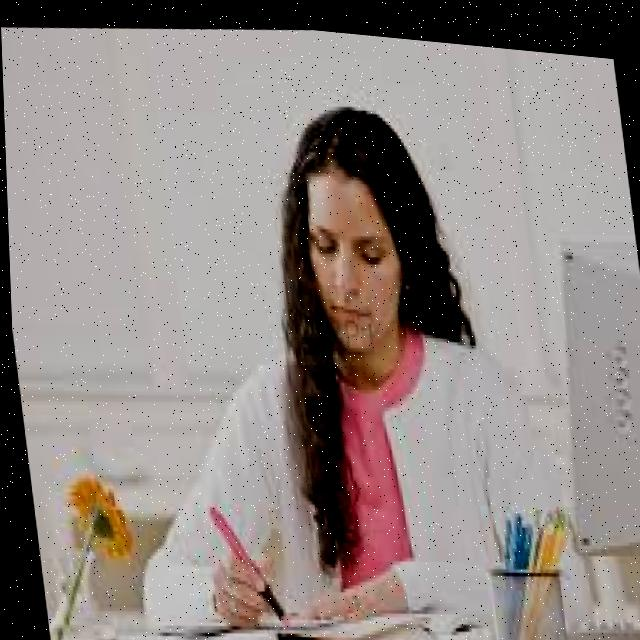studying-person: (68, 49, 585, 640)
